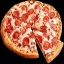pizza: (4, 3, 61, 58)
